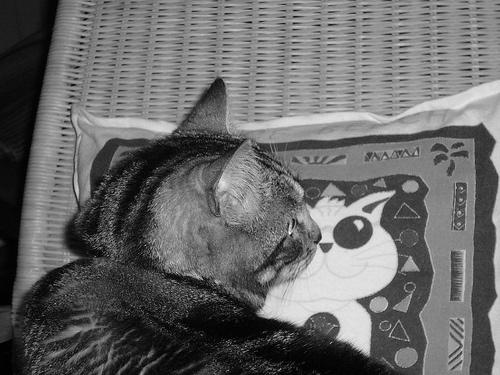cat: (14, 76, 400, 375)
